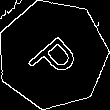P_NE: (21, 24, 84, 85)
